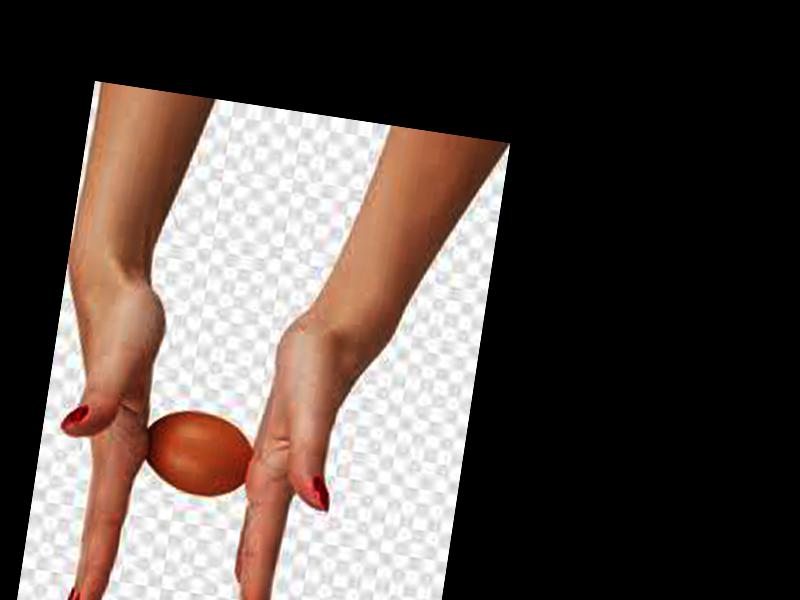Eggs: (141, 405, 257, 499)
